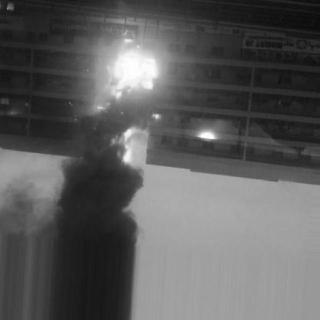Fire: (90, 29, 170, 113), (114, 129, 144, 165)
Smoke: (50, 164, 146, 317), (78, 118, 110, 160)
